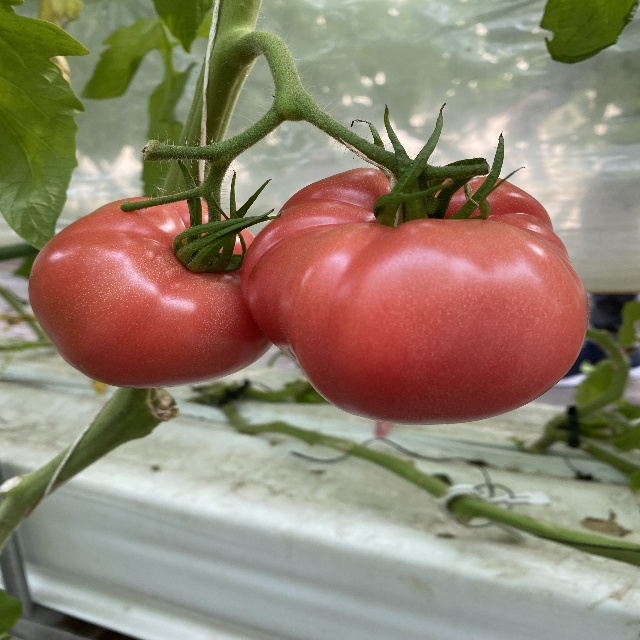b_fully_ripened: (238, 167, 588, 426), (28, 197, 273, 388)
